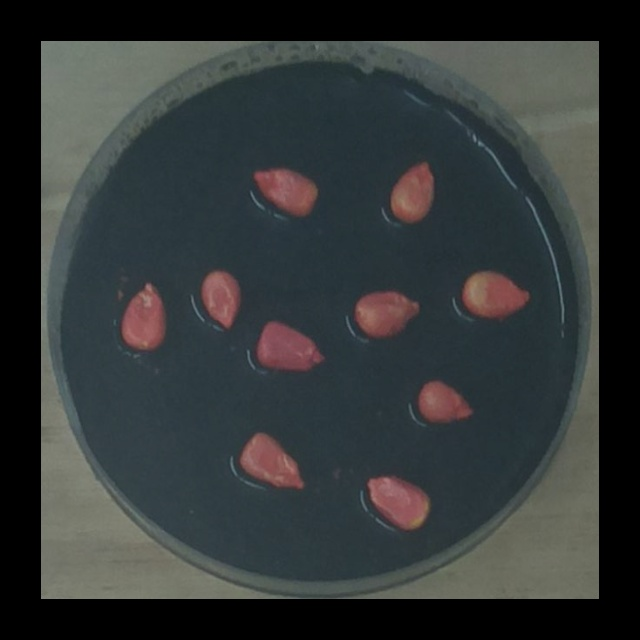Zea mays: (233, 426, 313, 497), (248, 312, 332, 379), (359, 469, 439, 537), (455, 263, 538, 324), (246, 159, 326, 222), (348, 282, 426, 346), (113, 273, 173, 356), (385, 153, 442, 229), (193, 262, 248, 336), (411, 372, 480, 429)
